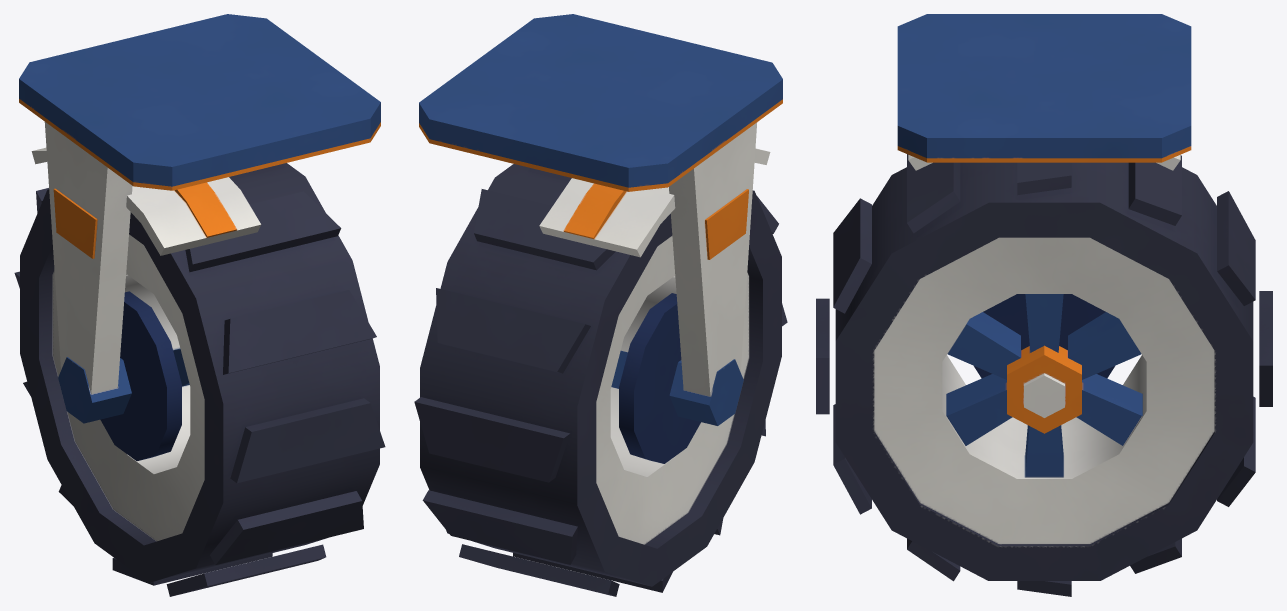
File: R4M_Wheel_LOD1.glb
3 views of the same model, side by side, from view 1: azimuth 30°, elevation 25°; view 2: azimuth 150°, elevation 25°; view 3: azimuth 270°, elevation 25° (orthographic). The views are drawn at different scales.
Visible parts, largest first — view 1: R4M_Wheel_LOD1; view 2: R4M_Wheel_LOD1; view 3: R4M_Wheel_LOD1.
Boxes of the visible parts, x1,y1,x2,y2 form: R4M_Wheel_LOD1: (14,14,385,596); R4M_Wheel_LOD1: (414,14,787,596); R4M_Wheel_LOD1: (816,14,1272,596).
Size of the model in its own units: 0.504 by 0.909 by 0.778.
Materials: 1 (1 with a texture image).
